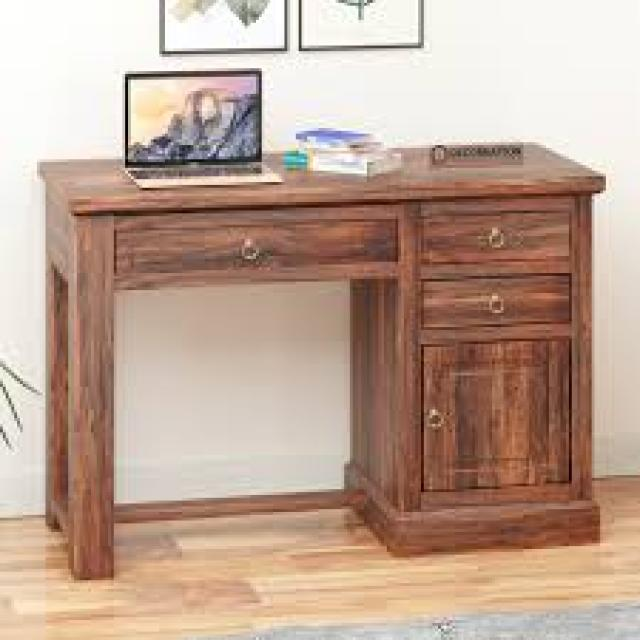obstacle: (370, 106, 623, 557)
